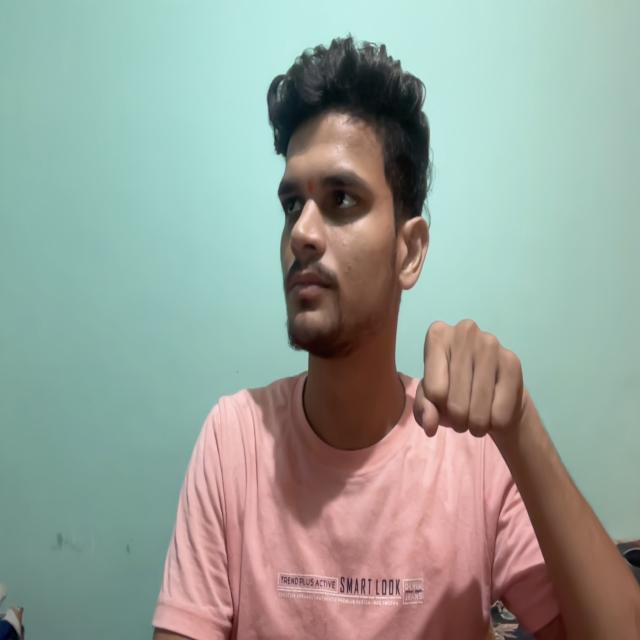yes: (408, 289, 545, 513)
